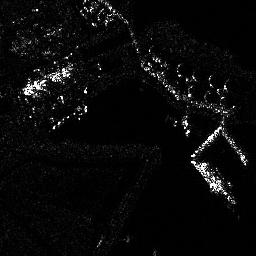ship: (199, 163, 238, 205)
